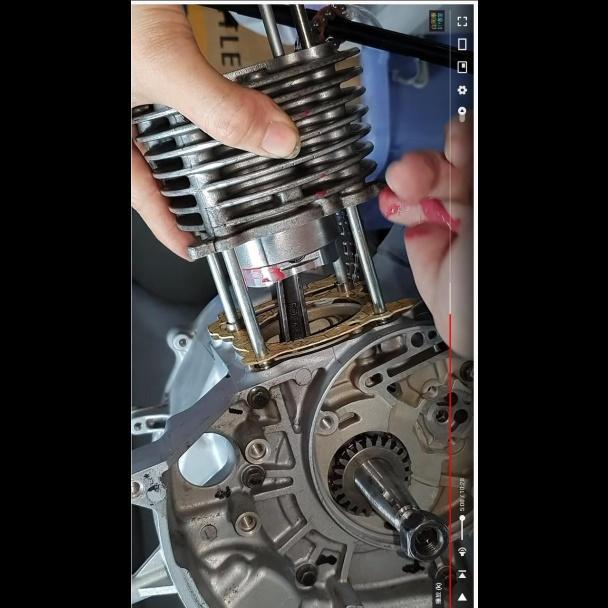hole: (236, 511, 260, 536), (246, 441, 269, 461), (424, 382, 443, 399), (317, 415, 335, 432)
